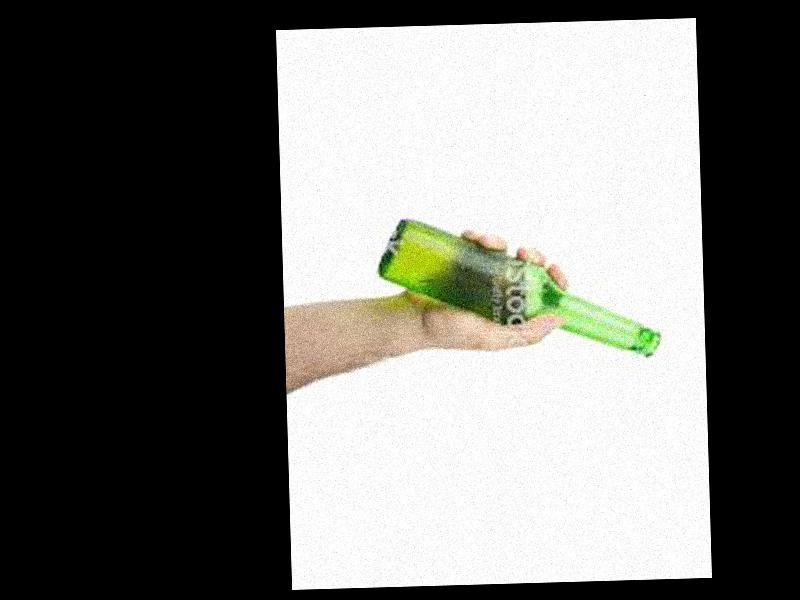Beer: (379, 210, 663, 365)
